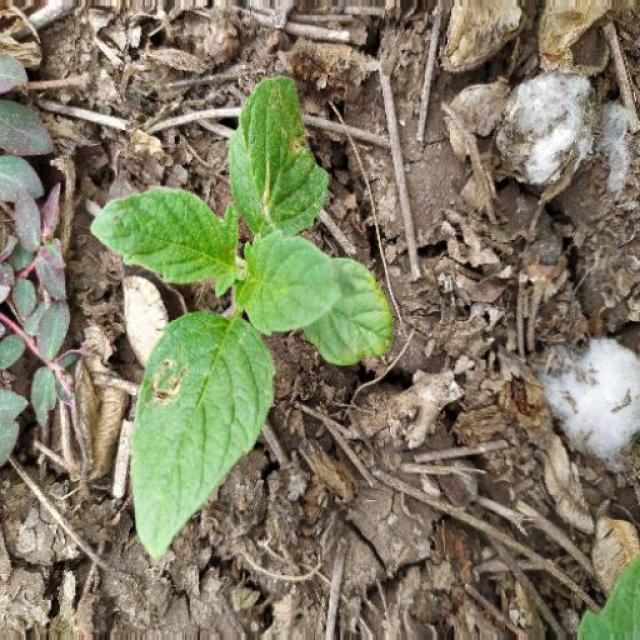weed: (94, 91, 416, 554)
